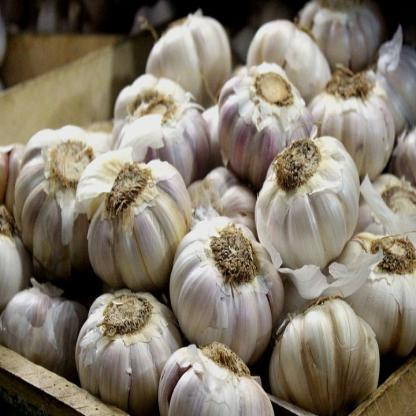garlic: (172, 221, 284, 336), (13, 115, 98, 266), (256, 150, 361, 264), (74, 291, 175, 404), (92, 164, 184, 288), (276, 309, 380, 415), (310, 49, 395, 170), (116, 78, 204, 184), (346, 229, 416, 356), (220, 71, 304, 168), (146, 11, 224, 102), (242, 17, 327, 100), (6, 288, 85, 368)
